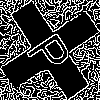P: (25, 25, 81, 78)
